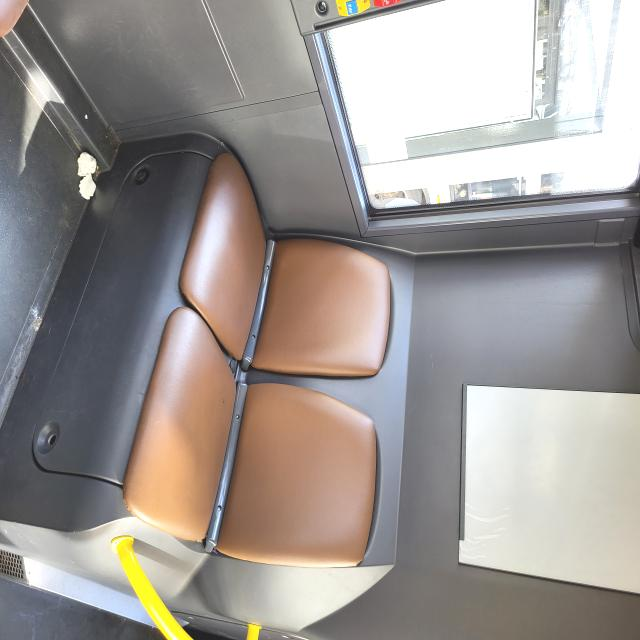asiento-libre: (391, 340, 594, 640), (270, 314, 444, 618)
